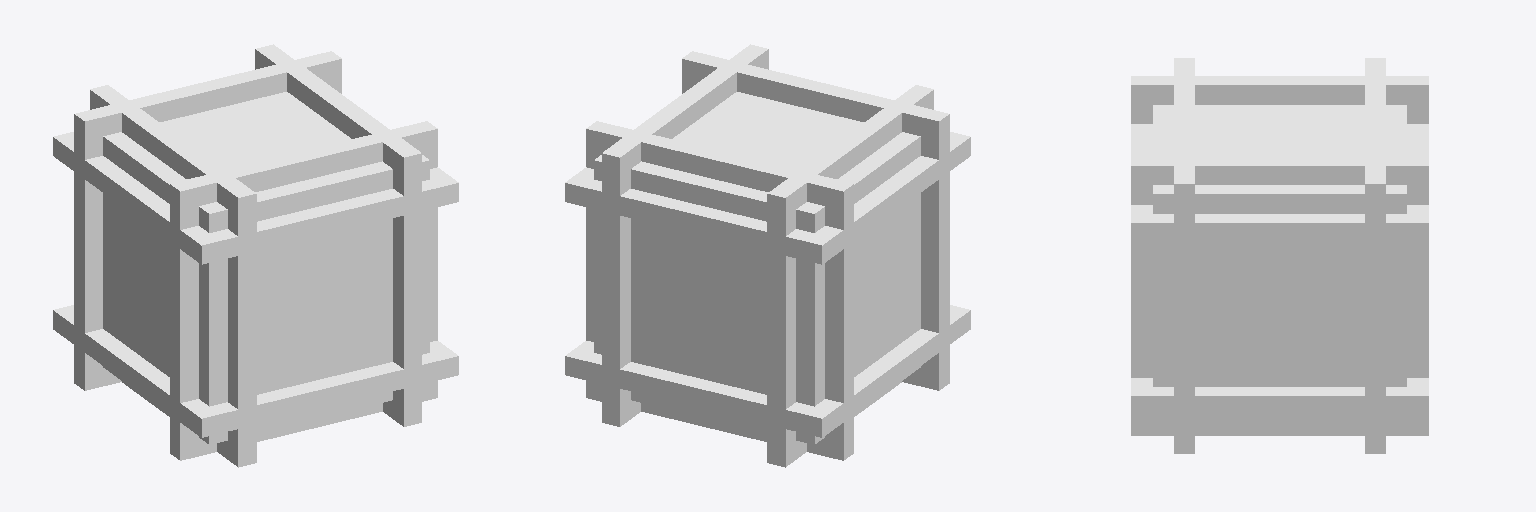
The model's file is ml_scalar_value_3.obj.
3 renders of one model, left to right at view 1: azimuth 30°, elevation 25°; view 2: azimuth 150°, elevation 25°; view 3: azimuth 270°, elevation 25°, orthographic.
Parts seen in each view (by area): view 1: ml_scalar_value_3.001; view 2: ml_scalar_value_3.001; view 3: ml_scalar_value_3.001.
Part boxes in pixels (x1,y1,x2,y2): ml_scalar_value_3.001: (53,44,458,467); ml_scalar_value_3.001: (565,44,970,467); ml_scalar_value_3.001: (1131,58,1428,453).
Bounding box in the file's own units: 0.7 × 0.7 × 0.7.